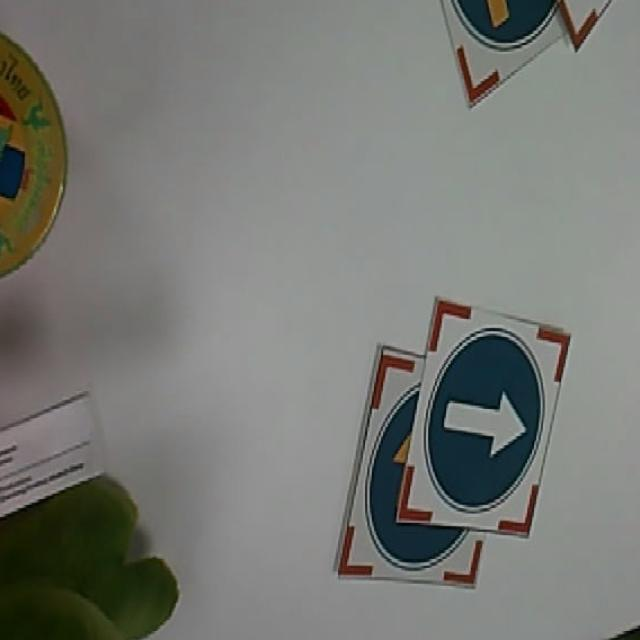straight: (417, 300, 559, 539)
turn: (418, 0, 559, 137)
